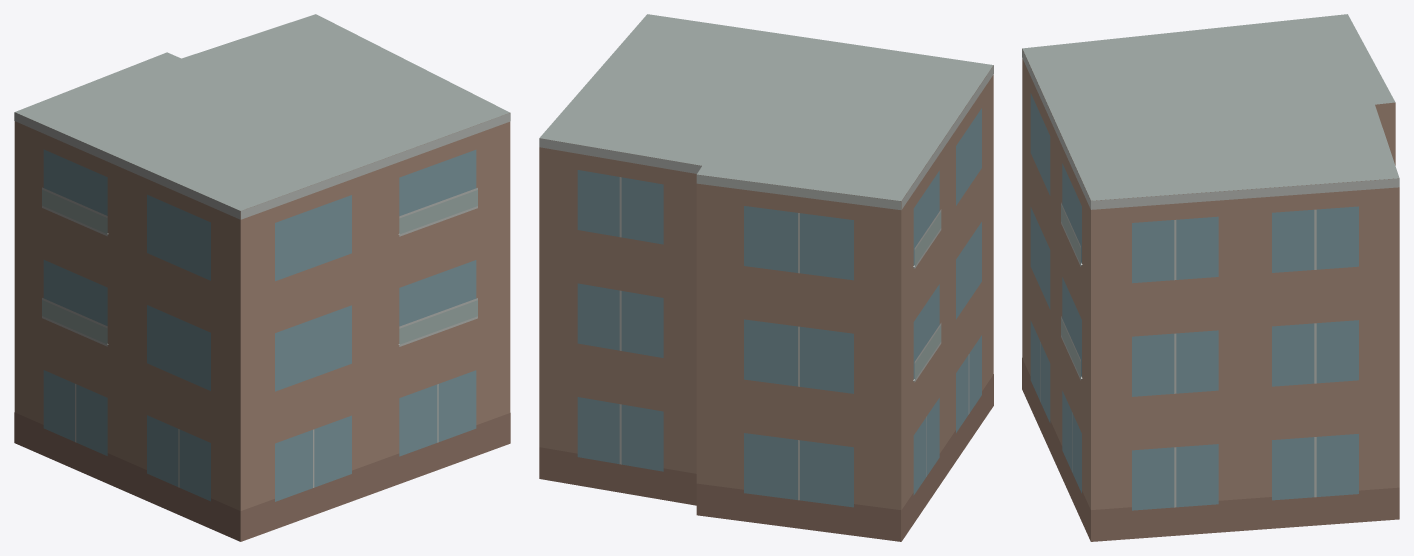
The model's file is survey-upis-32595750.glb.
3 renders of one model, left to right at view 1: azimuth 30°, elevation 25°; view 2: azimuth 150°, elevation 25°; view 3: azimuth 270°, elevation 25°, orthographic. The views are drawn at different scales.
Visible parts, largest first — view 1: survey-upis-32595750.tmp; view 2: survey-upis-32595750.tmp; view 3: survey-upis-32595750.tmp.
Boxes of the visible parts, x1=… form: survey-upis-32595750.tmp: x1=14, y1=14, x2=510, y2=541; survey-upis-32595750.tmp: x1=539, y1=14, x2=993, y2=541; survey-upis-32595750.tmp: x1=1022, y1=14, x2=1399, y2=541.
Size of the model in its own units: 10.76 by 9.15 by 9.19.
